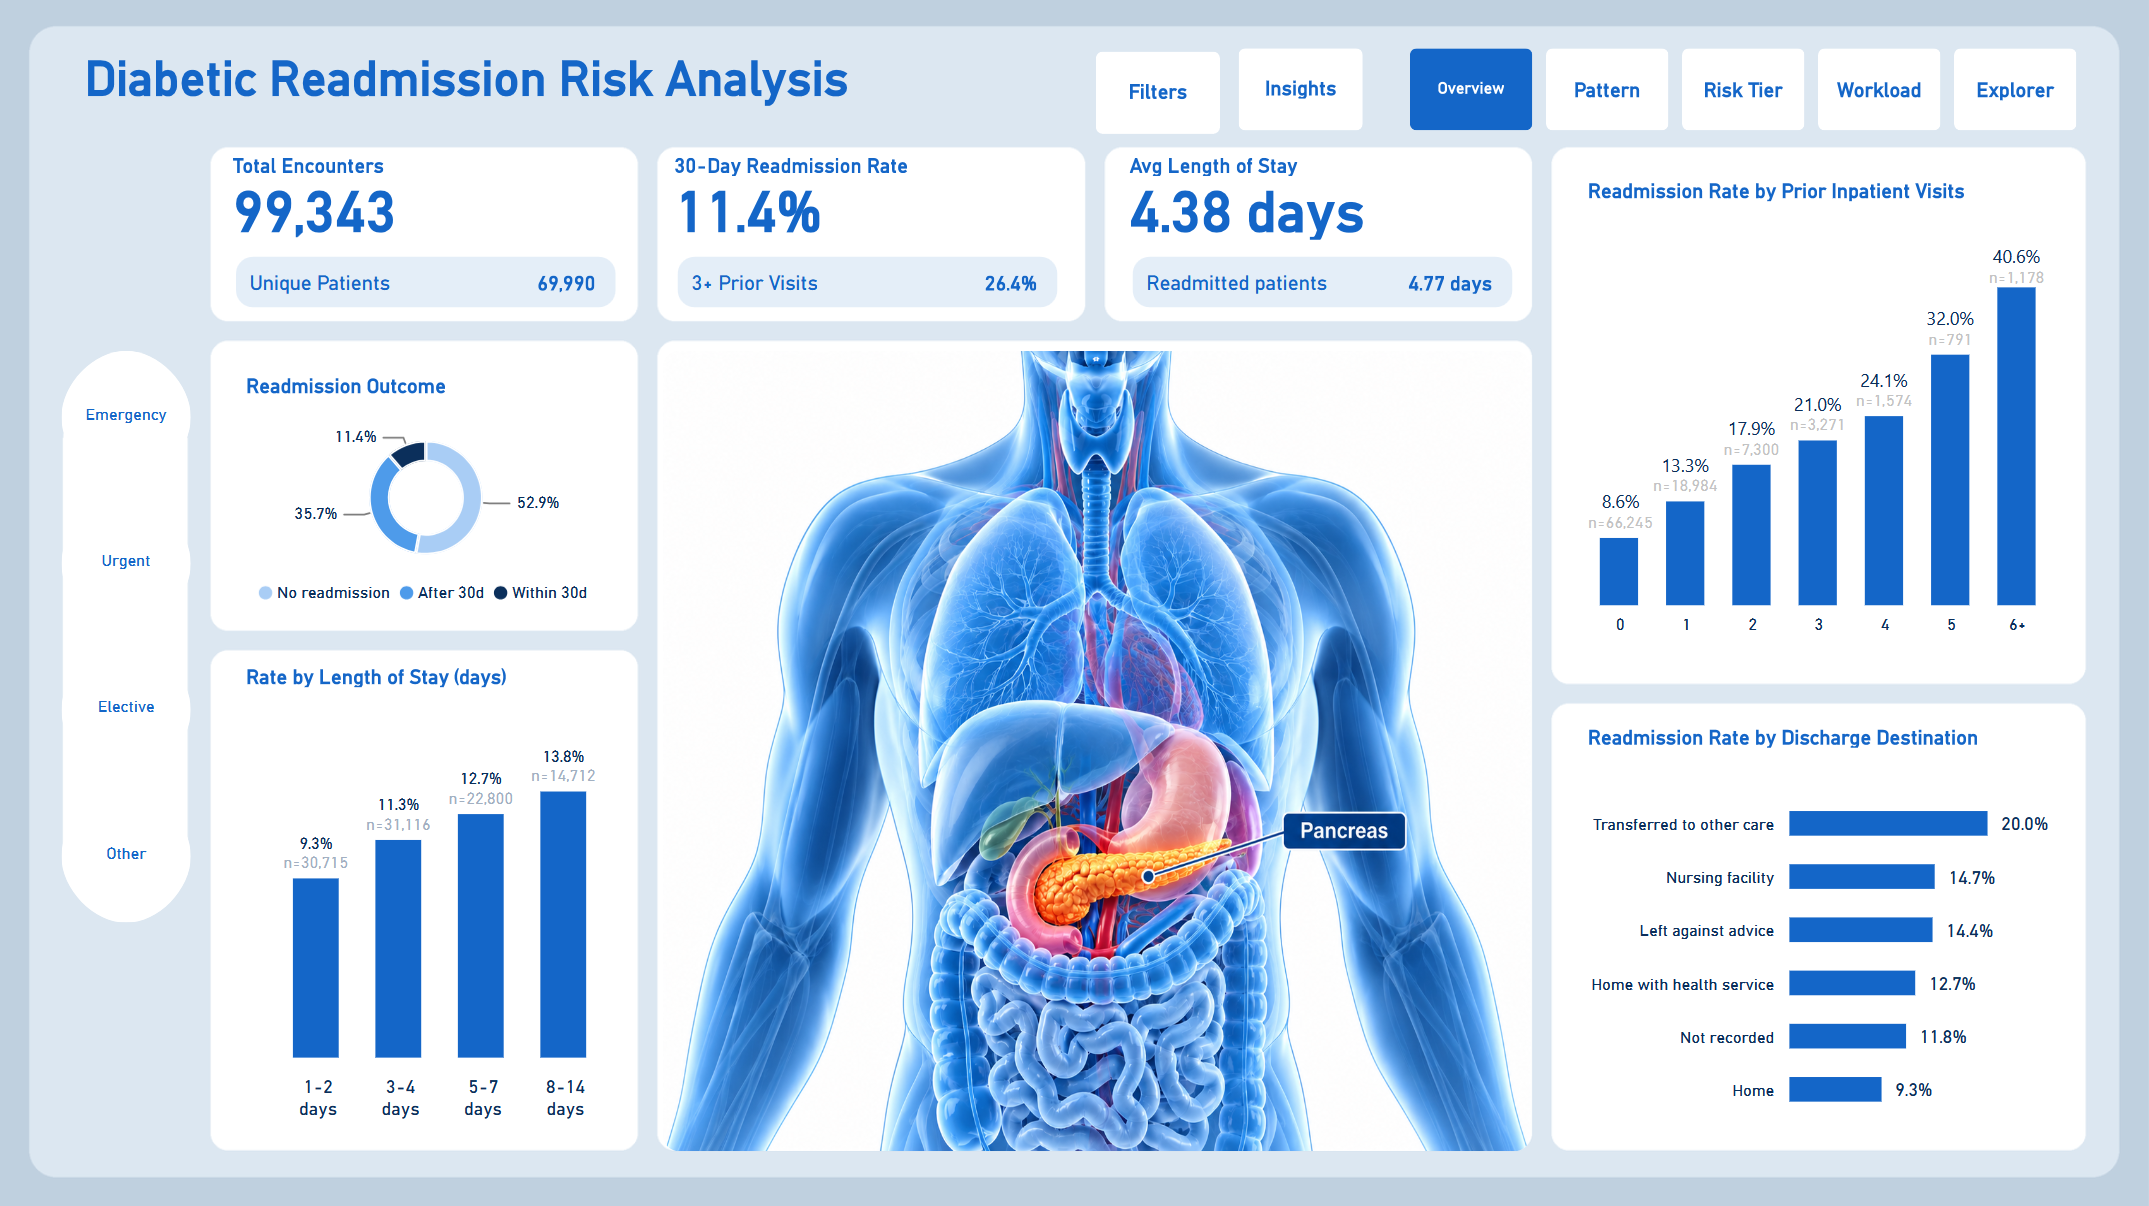

Layout of this report page (visuals, bound fields, positions):
{"tool":"powerbi","page":{"name":"Overview","canvas":[1280,720],"ordinal":0},"visuals":[{"type":"textbox","box":[50.5,29.7,529.2,55],"z":0},{"type":"cardVisual","title":"Total Encounters","fields":{"Data":["_Measures.Encounters (Included)"]},"box":[131,93,246,100],"z":1000},{"type":"cardVisual","title":"Total Encounters","fields":{"Data":["_Measures.Readmission Rate"]},"box":[394.3,93.5,246,100],"z":2000},{"type":"cardVisual","title":"Total Encounters","fields":{"Data":["_Measures.Avg Length of Stay"]},"box":[664.5,93.5,246,100],"z":3000},{"type":"donutChart","title":"Readmission Outcome","fields":{"Category":["Encounters.Readmission Outcome"],"Y":["_Measures.Encounters (Included)"]},"box":[130.9,209,246.4,173.4],"z":4000},{"type":"clusteredColumnChart","title":"Rate by Length of Stay (days)","fields":{"Category":["Encounters.los_band"],"Y":["_Measures.Readmission Rate"]},"box":[130.9,382.4,246.4,302.5],"z":5000},{"type":"clusteredColumnChart","title":"Readmission Rate by Prior Inpatient Visits","fields":{"Category":["Encounters.Prior Visits Label"],"Y":["_Measures.Readmission Rate"]},"box":[929.7,93.5,307.6,302.5],"z":6000},{"type":"clusteredBarChart","title":"Readmission Rate by Discharge Destination","fields":{"Category":["Discharge Destination.Discharge Group"],"Y":["_Measures.Readmission Rate"]},"box":[929.7,418.1,307.6,266.8],"z":7000},{"type":"image","box":[395.1,209,516.7,475.9],"z":8000},{"type":"pageNavigator","box":[839.6,28.9,397.7,49.3],"z":9000},{"type":"actionButton","title":"Insight","box":[737.6,28.9,74.8,49.3],"z":10000},{"type":"actionButton","title":"Filter","box":[652.6,30.6,74.8,49.3],"z":11000},{"type":"textbox","box":[100,100,300,300],"z":12000},{"type":"textbox","box":[100,100,300,300],"z":13000},{"type":"textbox","box":[100,100,300,300],"z":15000},{"type":"advancedSlicerVisual","fields":{"Values":["Admission Type.Admission Strip"]},"box":[39,209,74,343],"z":17000}]}

Visuals, with their boxes in screenshot pixels (x1, y1, x2, y2), scaled from the page's 1280x720 canvas onto the 2149x1206 screenshot:
textbox: [85,50,973,142]
"Total Encounters" cardVisual: [220,156,633,323]
"Total Encounters" cardVisual: [662,157,1075,324]
"Total Encounters" cardVisual: [1116,157,1529,324]
"Readmission Outcome" donutChart: [220,350,633,641]
"Rate by Length of Stay (days)" clusteredColumnChart: [220,641,633,1147]
"Readmission Rate by Prior Inpatient Visits" clusteredColumnChart: [1561,157,2077,663]
"Readmission Rate by Discharge Destination" clusteredBarChart: [1561,700,2077,1147]
image: [663,350,1531,1147]
pageNavigator: [1410,48,2077,131]
"Insight" actionButton: [1238,48,1364,131]
"Filter" actionButton: [1096,51,1221,134]
textbox: [168,168,672,670]
textbox: [168,168,672,670]
textbox: [168,168,672,670]
advancedSlicerVisual - Admission Type.Admission Strip: [65,350,190,925]
